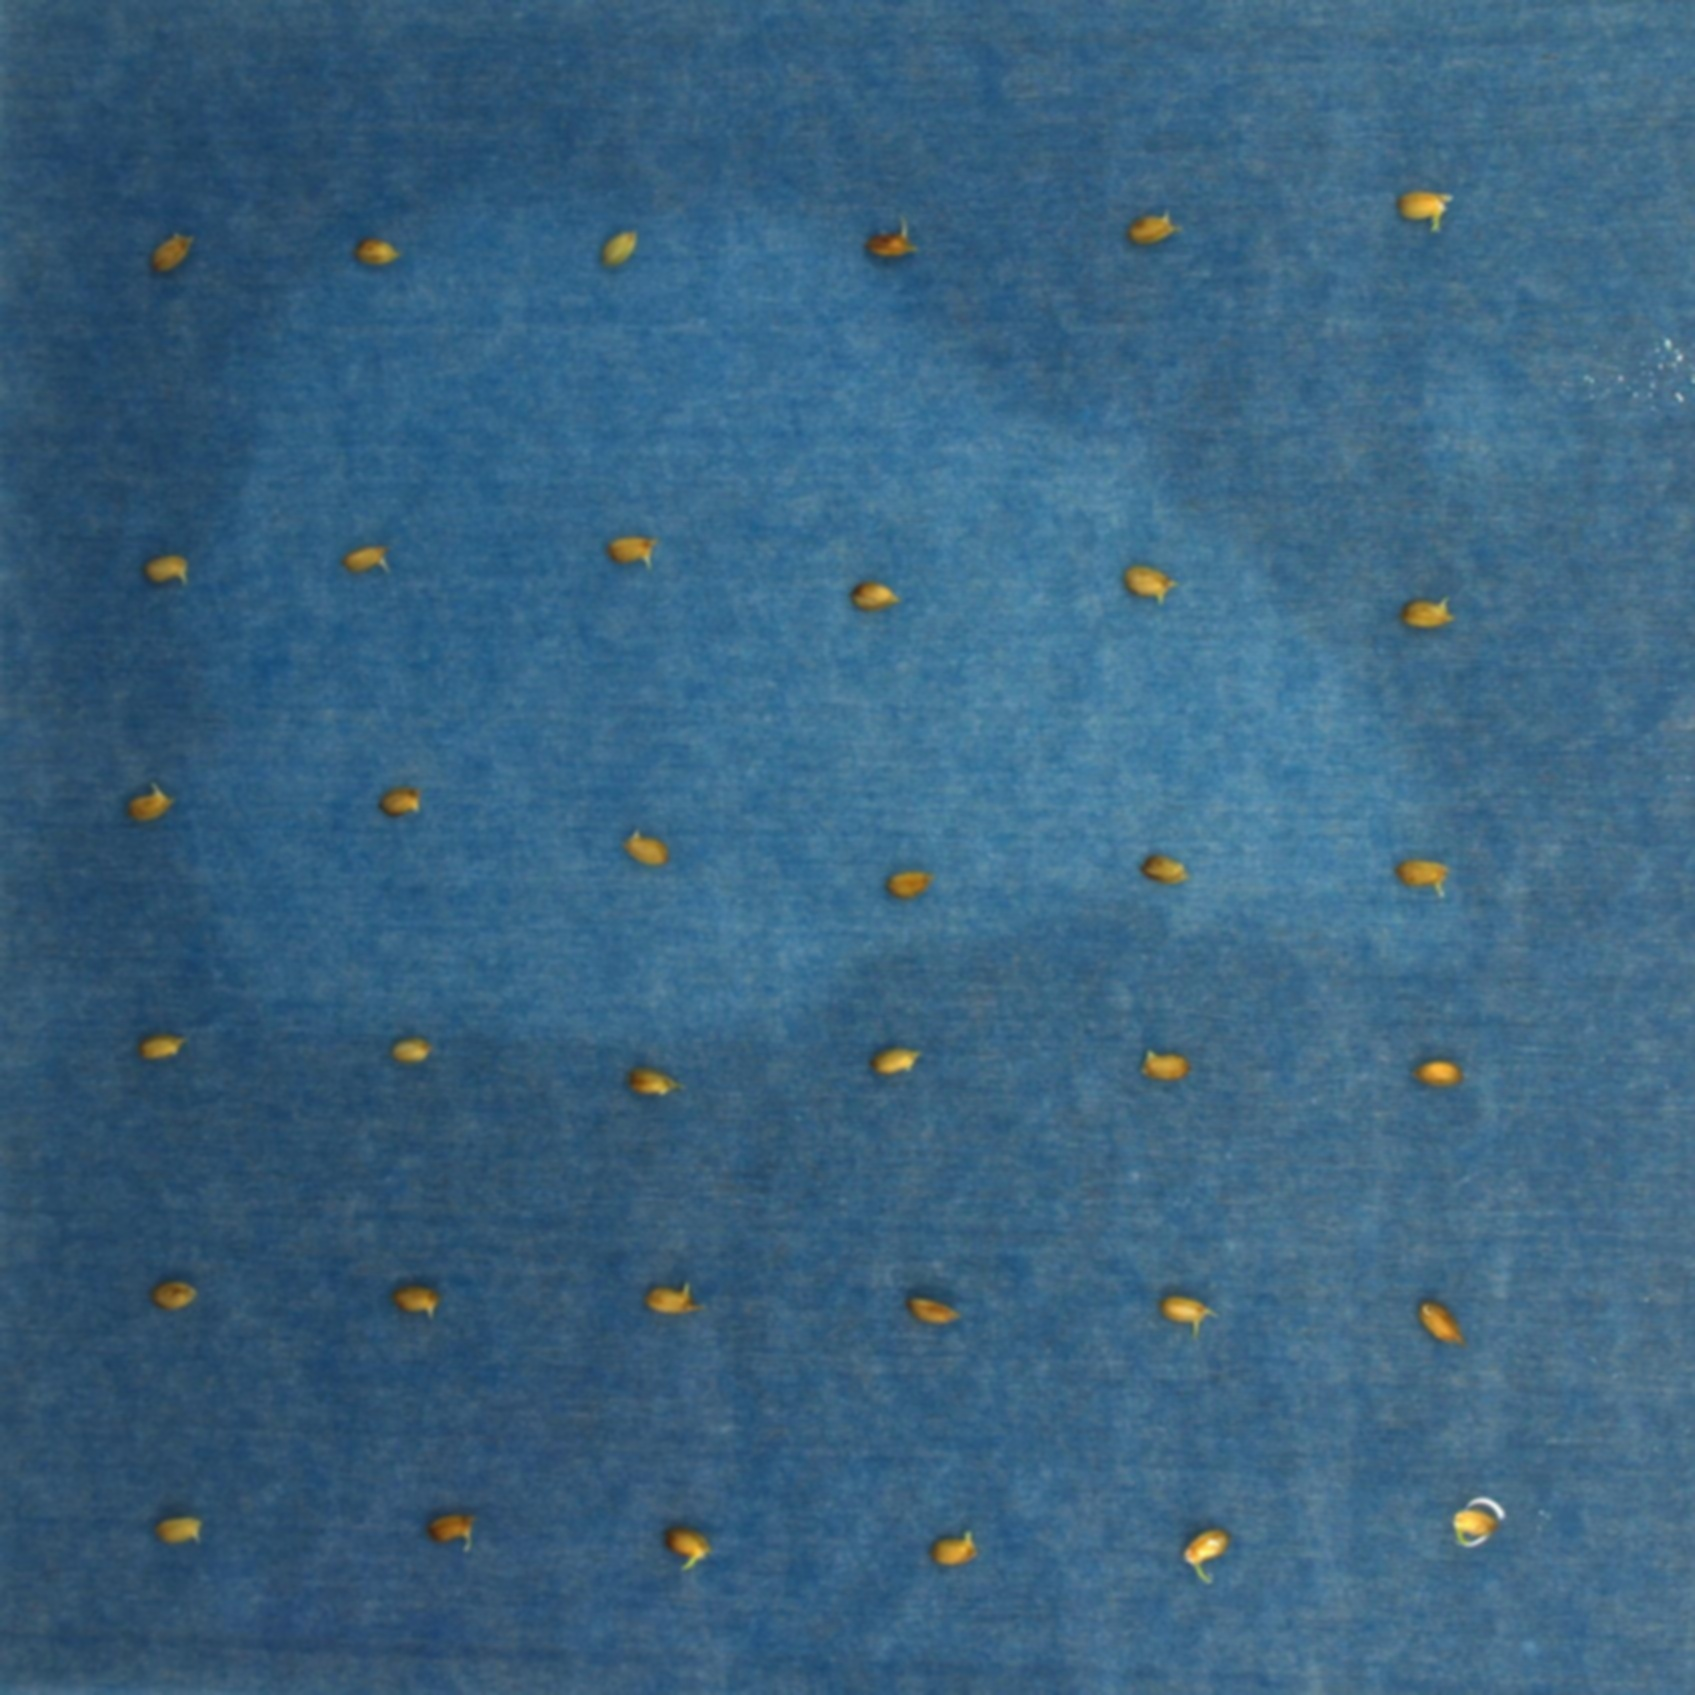not sprout: (1434, 1492, 1510, 1544), (1392, 183, 1458, 241), (661, 1520, 720, 1575), (858, 210, 922, 261), (1400, 588, 1464, 640), (1122, 554, 1180, 610), (1411, 1298, 1473, 1349), (900, 1288, 973, 1332), (149, 1506, 213, 1552), (391, 1276, 447, 1329), (879, 863, 938, 913), (424, 1503, 477, 1555), (141, 230, 197, 279), (930, 1523, 986, 1572), (643, 1276, 706, 1318), (602, 528, 664, 570), (851, 570, 900, 621), (137, 1024, 192, 1069), (1139, 847, 1198, 889), (140, 543, 191, 591), (338, 534, 391, 581), (123, 776, 175, 823), (1400, 855, 1454, 900), (1167, 1291, 1217, 1340), (626, 1063, 685, 1104), (1125, 203, 1180, 247), (624, 823, 674, 869), (386, 1028, 438, 1073), (1405, 1054, 1468, 1090), (1142, 1042, 1191, 1087), (598, 224, 643, 269), (373, 781, 425, 818), (871, 1042, 927, 1076), (149, 1274, 199, 1312), (357, 237, 397, 269)
sprout: (1180, 1527, 1236, 1593)
